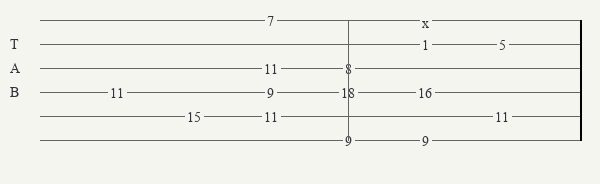1: (422, 37, 433, 51)
11: (110, 85, 128, 99), (264, 61, 282, 75), (264, 109, 282, 123), (495, 109, 513, 123)
15: (187, 109, 205, 123)
16: (418, 85, 436, 99)
18: (341, 85, 359, 99)
5: (499, 37, 510, 51)
7: (267, 13, 278, 27)
8: (345, 61, 356, 75)
9: (267, 85, 278, 99), (345, 133, 356, 147), (422, 133, 433, 147)
x: (422, 15, 433, 26)
